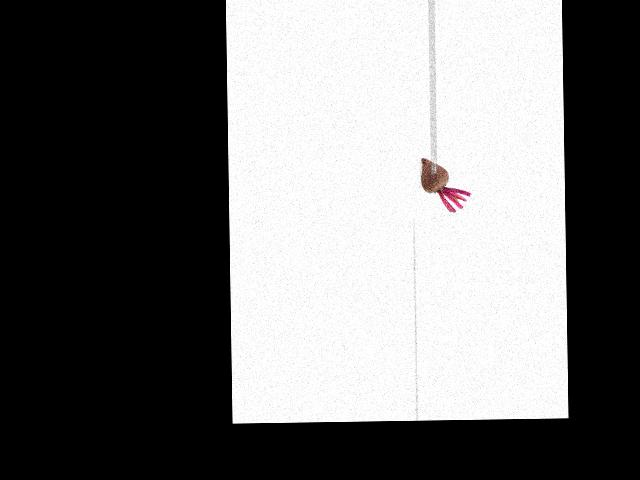beet: (420, 156, 471, 213)
